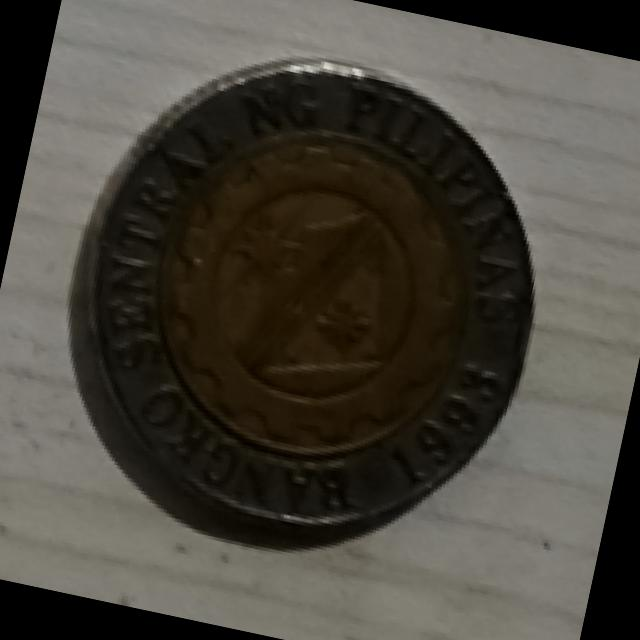10_peso: (69, 60, 531, 543)
